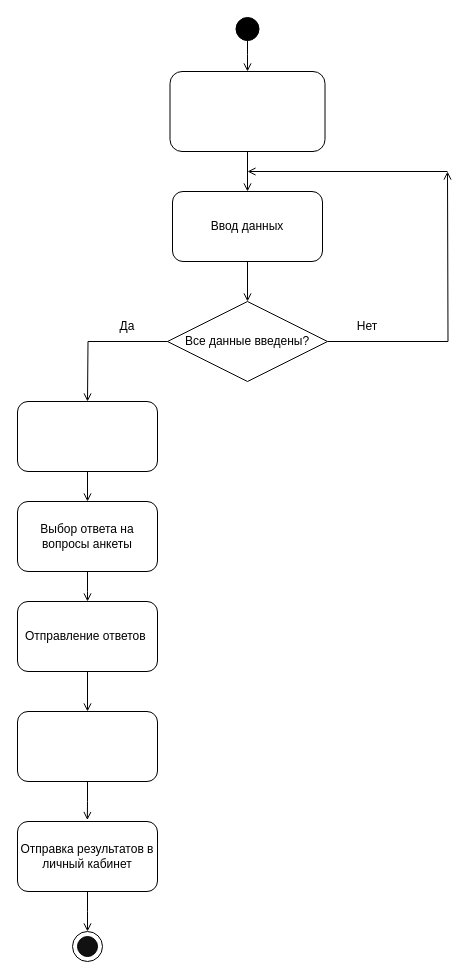
The diagram is 474 pixels wide and 979 high, and some of its shapes have lost their labels. Here are the shapes that lost their labels. From the top down, the box of each, then its label:
(169, 70, 325, 152): Пользователь заходит на форму с анкетой
(16, 400, 158, 472): по-очередное появление воросов анкеты
(16, 710, 158, 782): Генерация ухода за волосами
